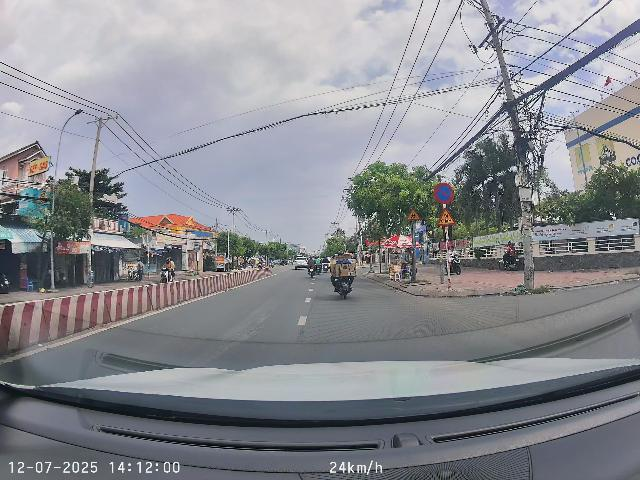131a-cam-do-xe: (434, 183, 454, 204)
225-chu-y-tre-em: (407, 208, 421, 221)
245-di-cham: (437, 207, 456, 225)
